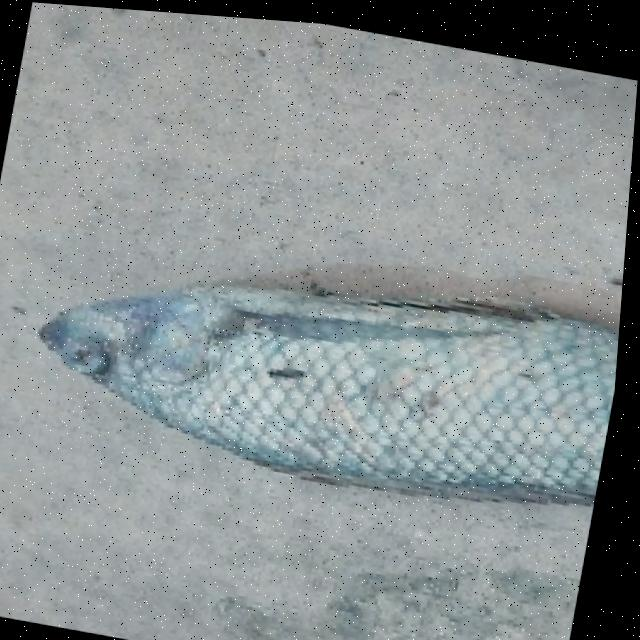Non-Fresh: (6, 194, 629, 554)
